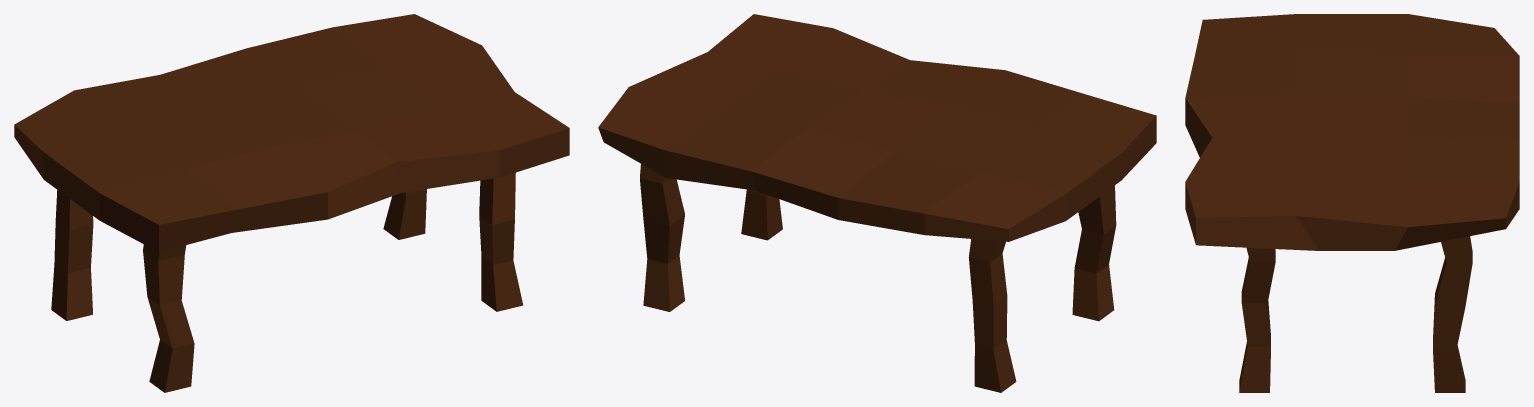
The model's file is Table01.fbx.
3 views of the same model, side by side, from view 1: azimuth 30°, elevation 25°; view 2: azimuth 150°, elevation 25°; view 3: azimuth 270°, elevation 25° (orthographic).
Visible parts, largest first — view 1: Cube.001; view 2: Cube.001; view 3: Cube.001.
Part boxes in pixels (x1,y1,x2,y2): Cube.001: [14, 14, 569, 392]; Cube.001: [598, 14, 1156, 392]; Cube.001: [1185, 14, 1519, 392].
Size of the model in its own units: 264 by 110 by 175.
